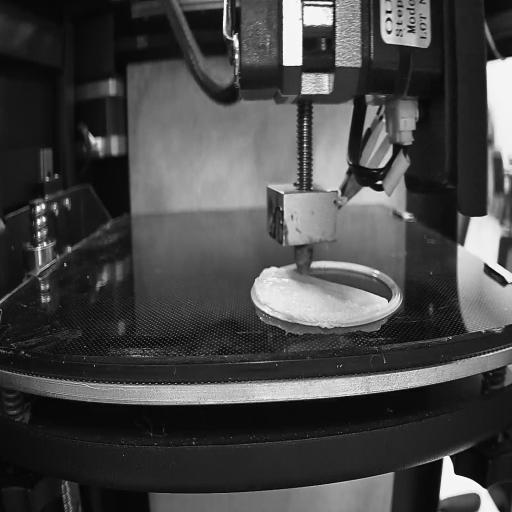over_extrusion: (252, 258, 278, 311)
